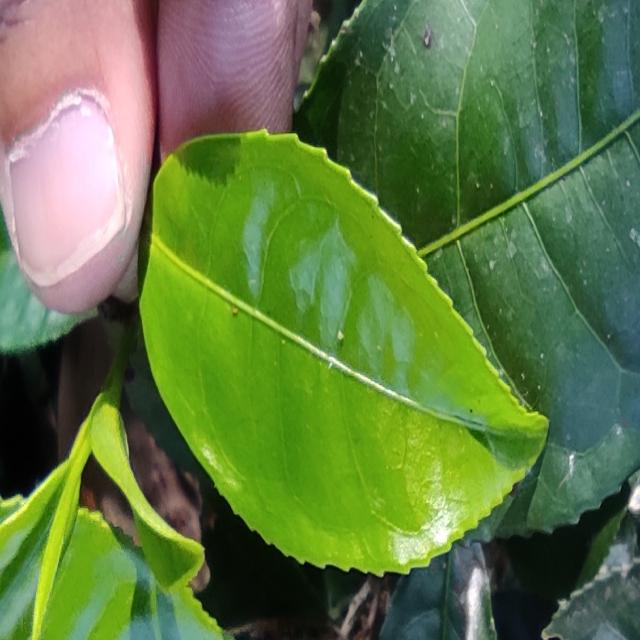Category C(4-7 days): (119, 100, 556, 588)
